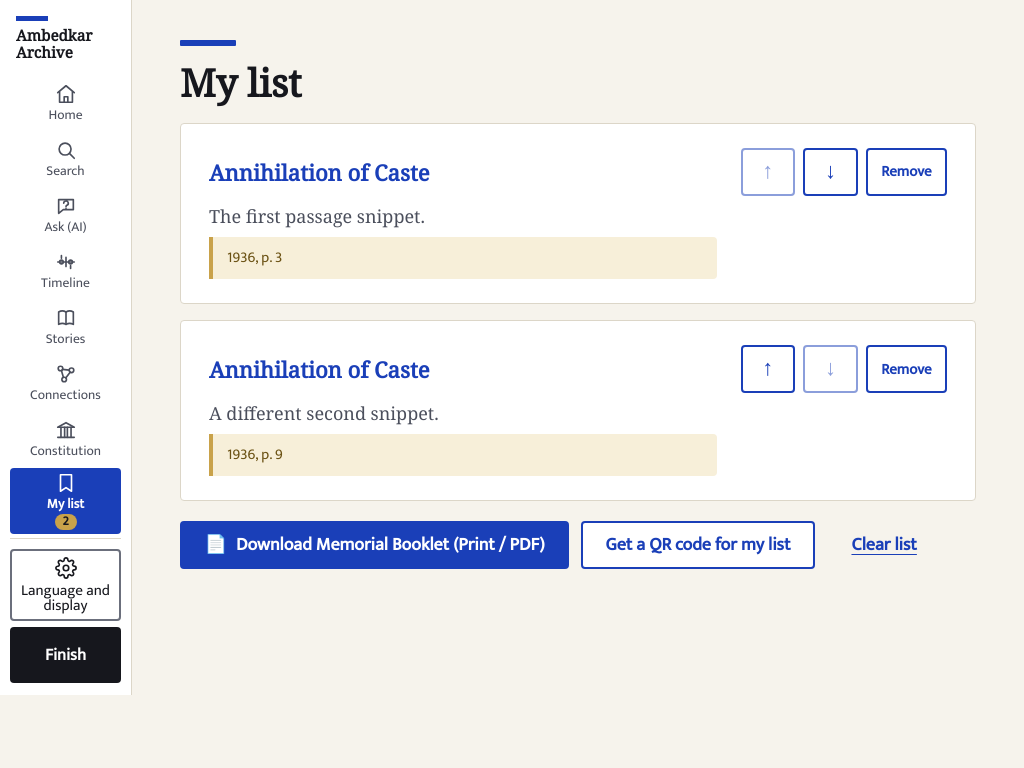
Test: saved list › clears the list only after confirming
Step 1. Click the button "Clear list" → [884, 545], box [827,521,941,569]
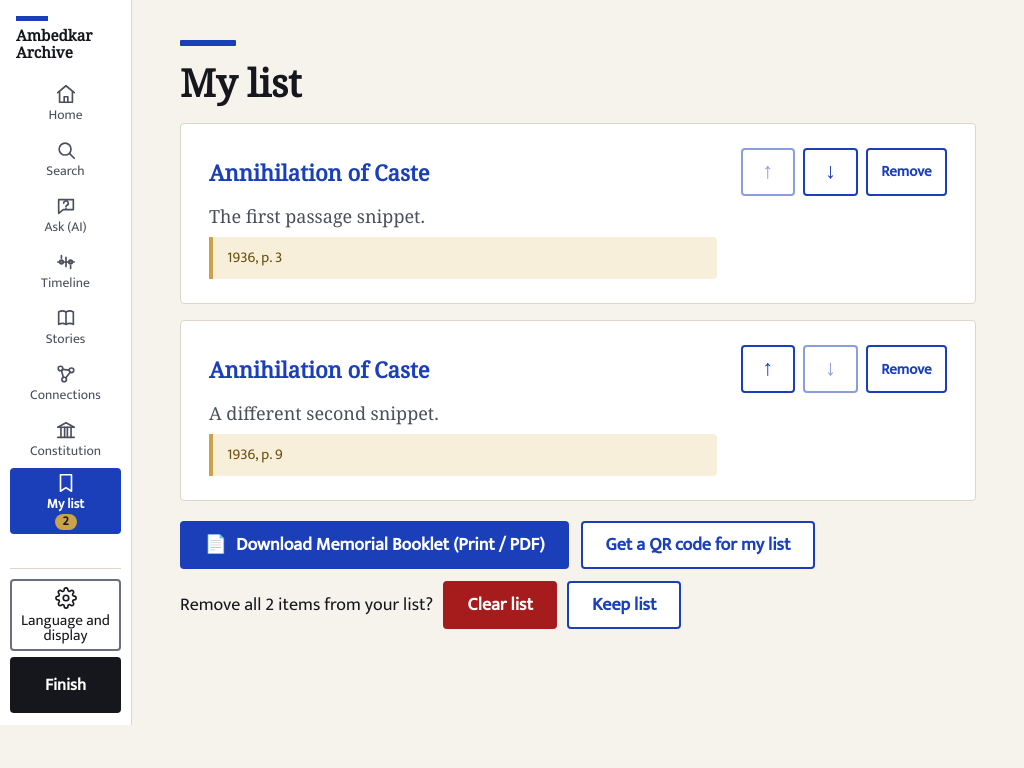
Expected: the number of list items with class "basket-entry" is 2, [180,123,976,304]; [180,320,976,501]
Expected: the element with class "basket-clear-confirm" shows "Remove all 2 items", [180,590,433,620]
Step 2. Click the button "Keep list" → [624, 605], box [568,581,681,629]
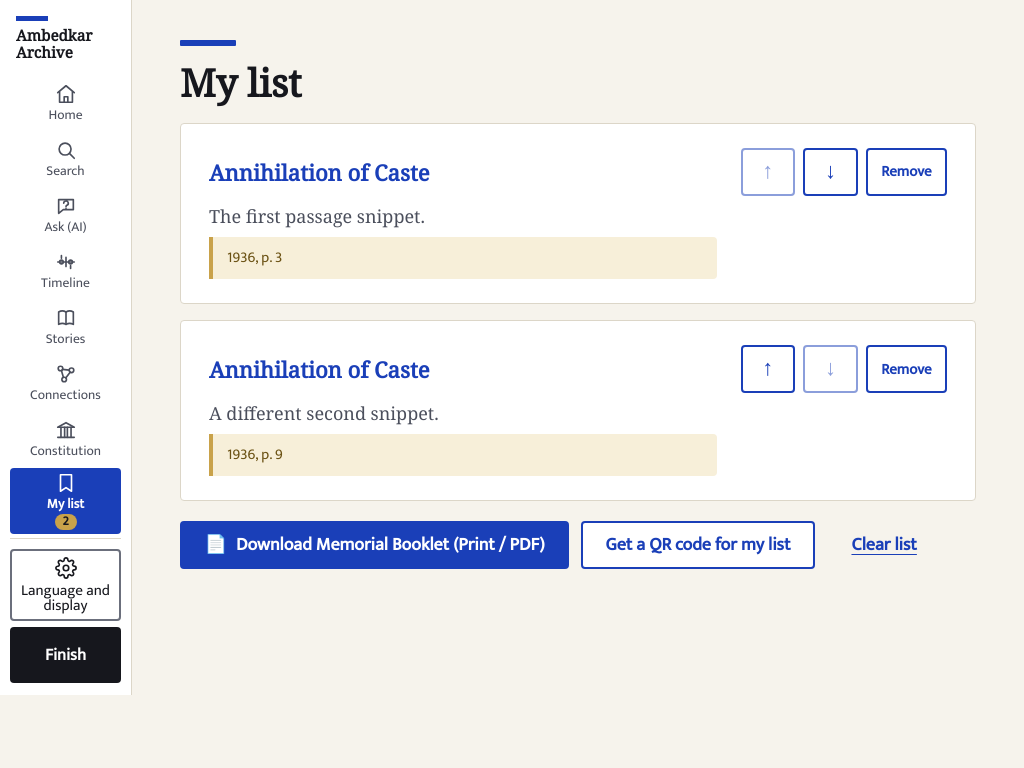
Expected: the number of list items with class "basket-entry" is 2, [180,123,976,304]; [180,320,976,501]
Step 3. Click the button "Clear list" → [884, 545], box [827,521,941,569]
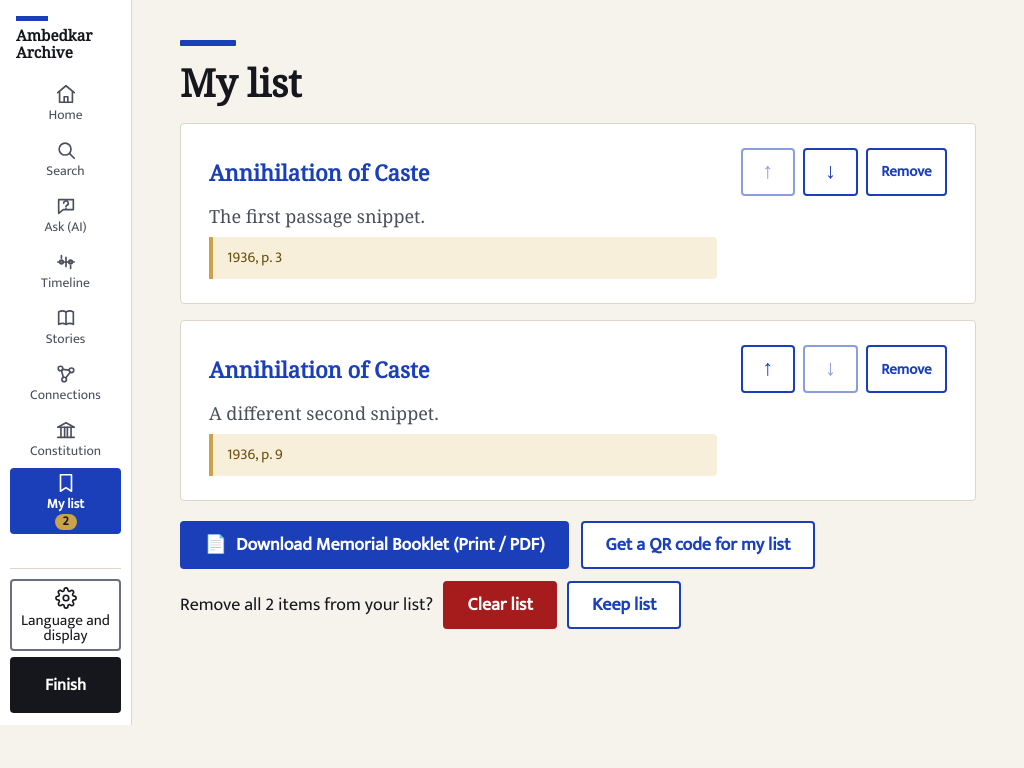
Step 4. Click the button "Clear list" → [500, 605], box [443,581,558,629]
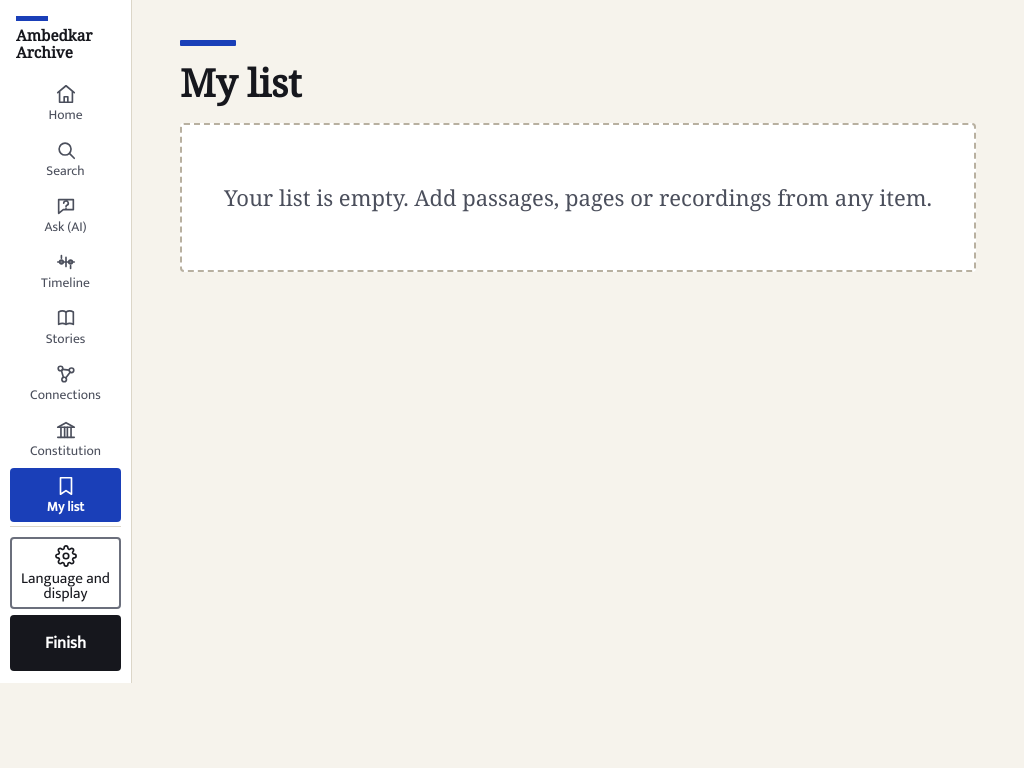
Expected: the text with class "empty-state" is shown, [180,123,976,272]
